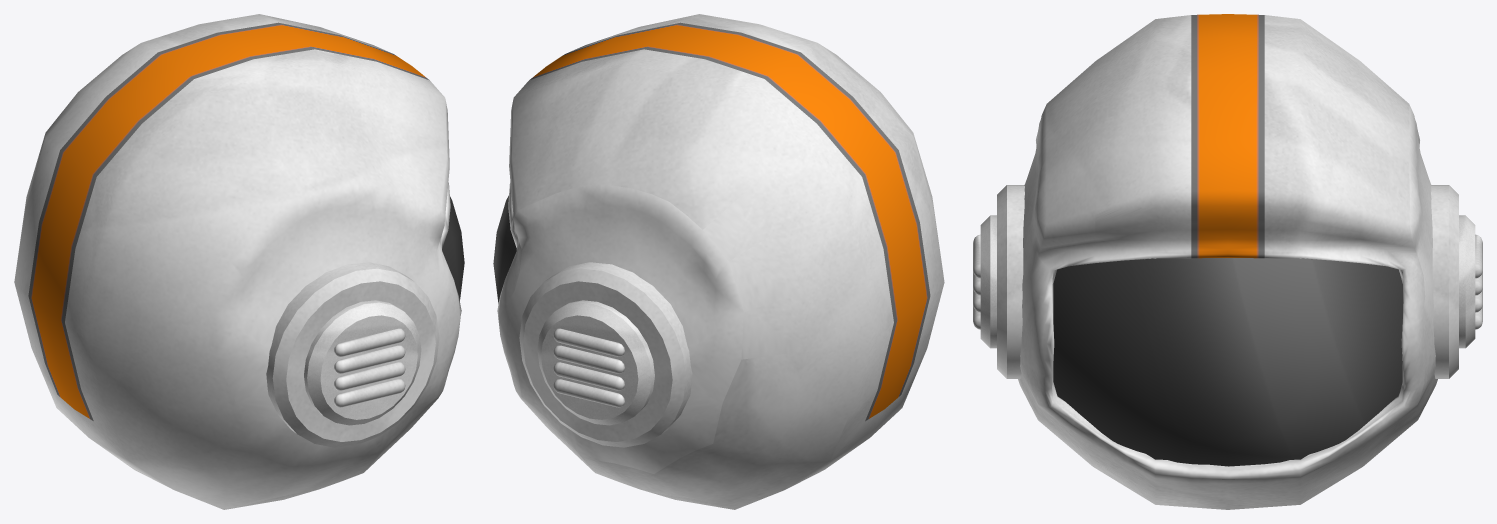
The model's file is human2c1.obj.
The picture shows the model from 3 angles, left to right: view 1: azimuth 30°, elevation 25°; view 2: azimuth 150°, elevation 25°; view 3: azimuth 270°, elevation 25°; orthographic projection.
Visible parts, largest first — view 1: Body_casque_ext_.000, Outer_circle_casque_ext_.002, Inner_circle_casque_ext_.001, Bars_casque_ext_.007, Glass.001_casque_ext_.005; view 2: Body_casque_ext_.000, Outer_circle_casque_ext_.002, Inner_circle_casque_ext_.001, Bars_casque_ext_.007, Glass.001_casque_ext_.005; view 3: Body_casque_ext_.000, Glass.001_casque_ext_.005, Outer_circle_casque_ext_.002, Inner_circle_casque_ext_.001, Bars_casque_ext_.007.
Boxes of the visible parts, bbox=[...] form: Body_casque_ext_.000: bbox=[14, 14, 461, 509]; Outer_circle_casque_ext_.002: bbox=[266, 262, 439, 447]; Inner_circle_casque_ext_.001: bbox=[304, 300, 421, 425]; Bars_casque_ext_.007: bbox=[334, 328, 405, 407]; Glass.001_casque_ext_.005: bbox=[442, 196, 464, 300]; Body_casque_ext_.000: bbox=[497, 14, 944, 509]; Outer_circle_casque_ext_.002: bbox=[519, 262, 692, 447]; Inner_circle_casque_ext_.001: bbox=[537, 300, 654, 425]; Bars_casque_ext_.007: bbox=[553, 328, 624, 407]; Glass.001_casque_ext_.005: bbox=[493, 195, 516, 303]; Body_casque_ext_.000: bbox=[1018, 14, 1437, 509]; Glass.001_casque_ext_.005: bbox=[1053, 258, 1403, 466]; Outer_circle_casque_ext_.002: bbox=[997, 185, 1458, 378]; Inner_circle_casque_ext_.001: bbox=[980, 215, 1475, 348]; Bars_casque_ext_.007: bbox=[973, 234, 1482, 329].
Size of the model in its own units: 1.94 by 2.05 by 2.17.
